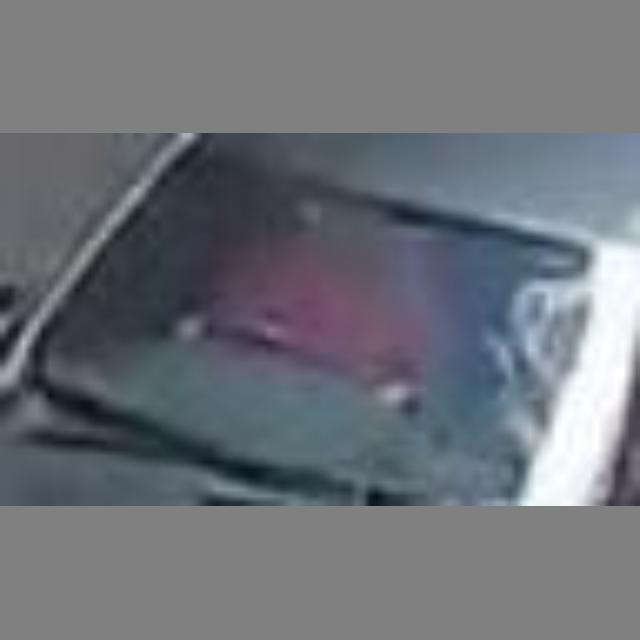tidak-pakai: (227, 180, 453, 413)
